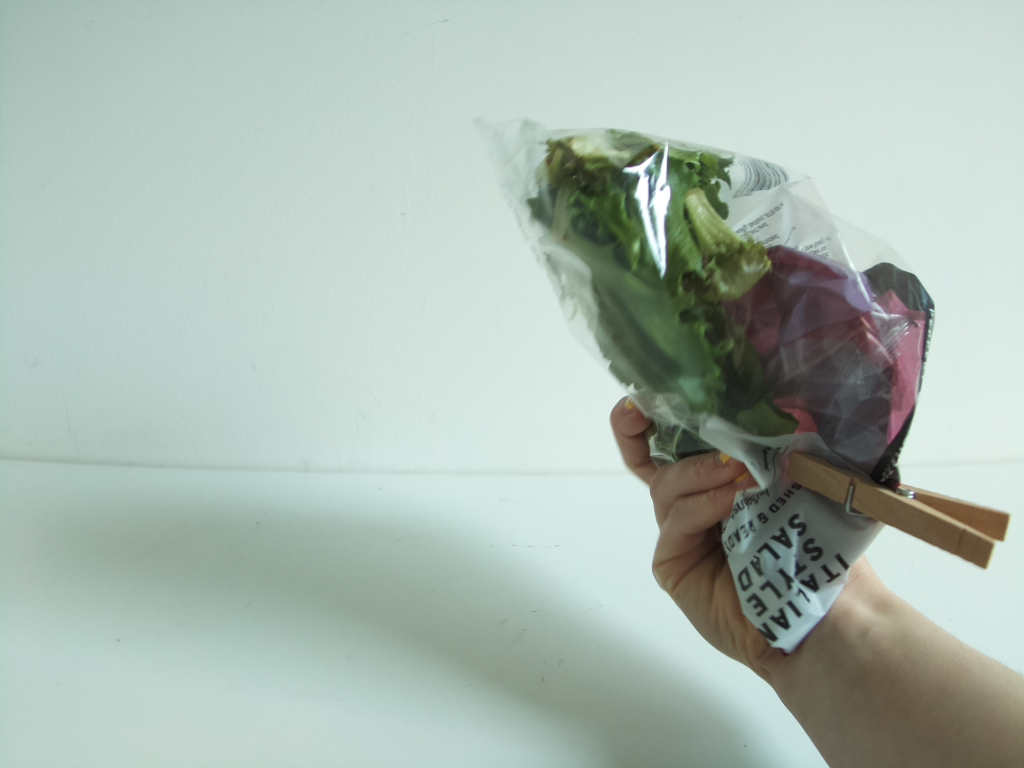salad: (517, 128, 936, 649)
